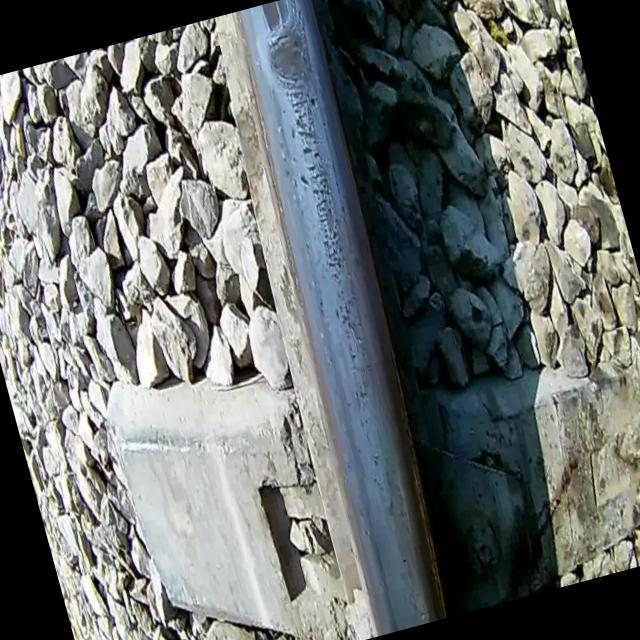Squats: (254, 3, 334, 102), (257, 0, 296, 34)
